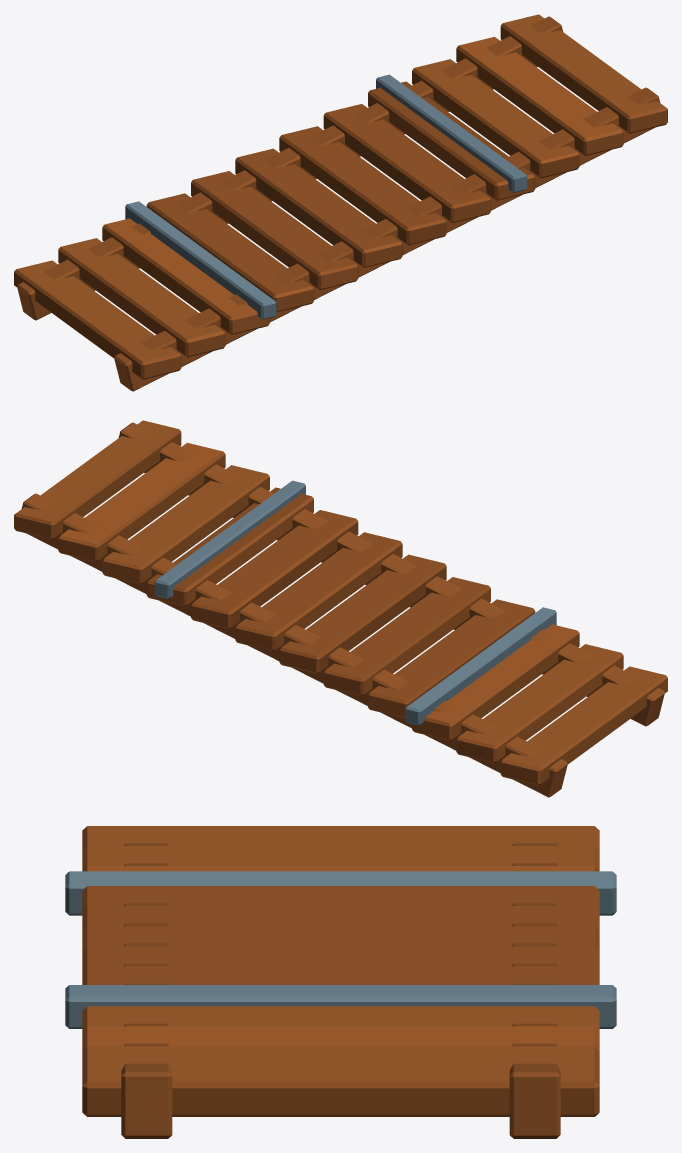
File: EM_SlipwayRamp.fbx
3 views of the same model, one above another, from view 1: azimuth 30°, elevation 25°; view 2: azimuth 150°, elevation 25°; view 3: azimuth 270°, elevation 25° (orthographic). The views are drawn at different scales.
Parts seen in each view (by area): view 1: EM_SlipwayRamp; view 2: EM_SlipwayRamp; view 3: EM_SlipwayRamp.
Part boxes in pixels (<box>): EM_SlipwayRamp: <box>14,14,667,391</box>; EM_SlipwayRamp: <box>14,420,667,797</box>; EM_SlipwayRamp: <box>65,826,616,1138</box>.
Bounding box in the file's own units: 3.66 × 1.09 × 1.62.
